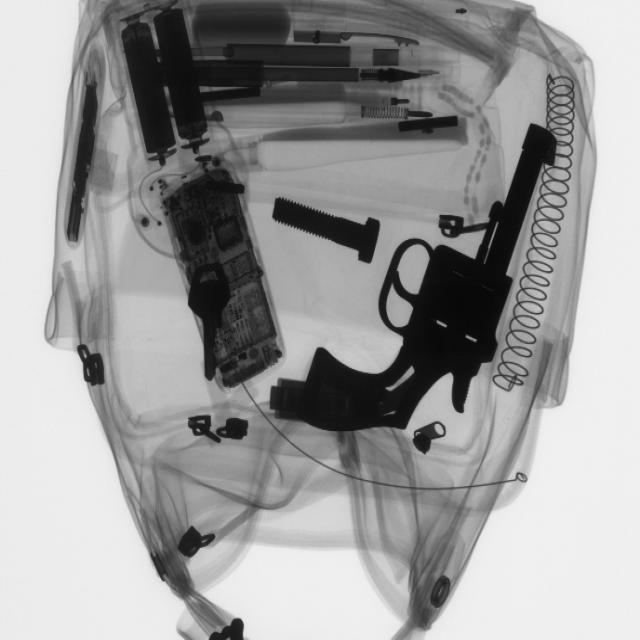GUN: (285, 132, 563, 435)
